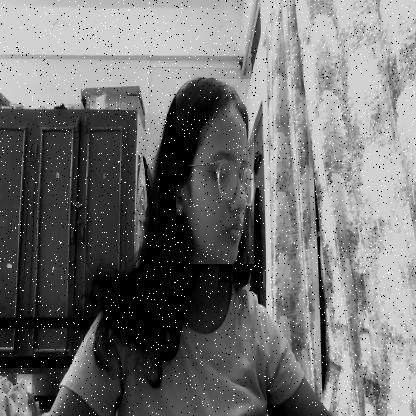Distracted: (176, 79, 254, 264)
